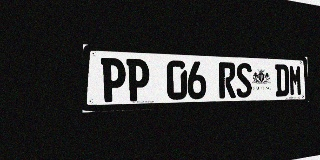0: (166, 60, 187, 100)
6: (187, 61, 206, 99)
D: (275, 64, 289, 97)
M: (289, 65, 302, 96)
P: (101, 58, 126, 102), (126, 59, 150, 101)
R: (219, 62, 236, 98)
S: (236, 63, 252, 98)
